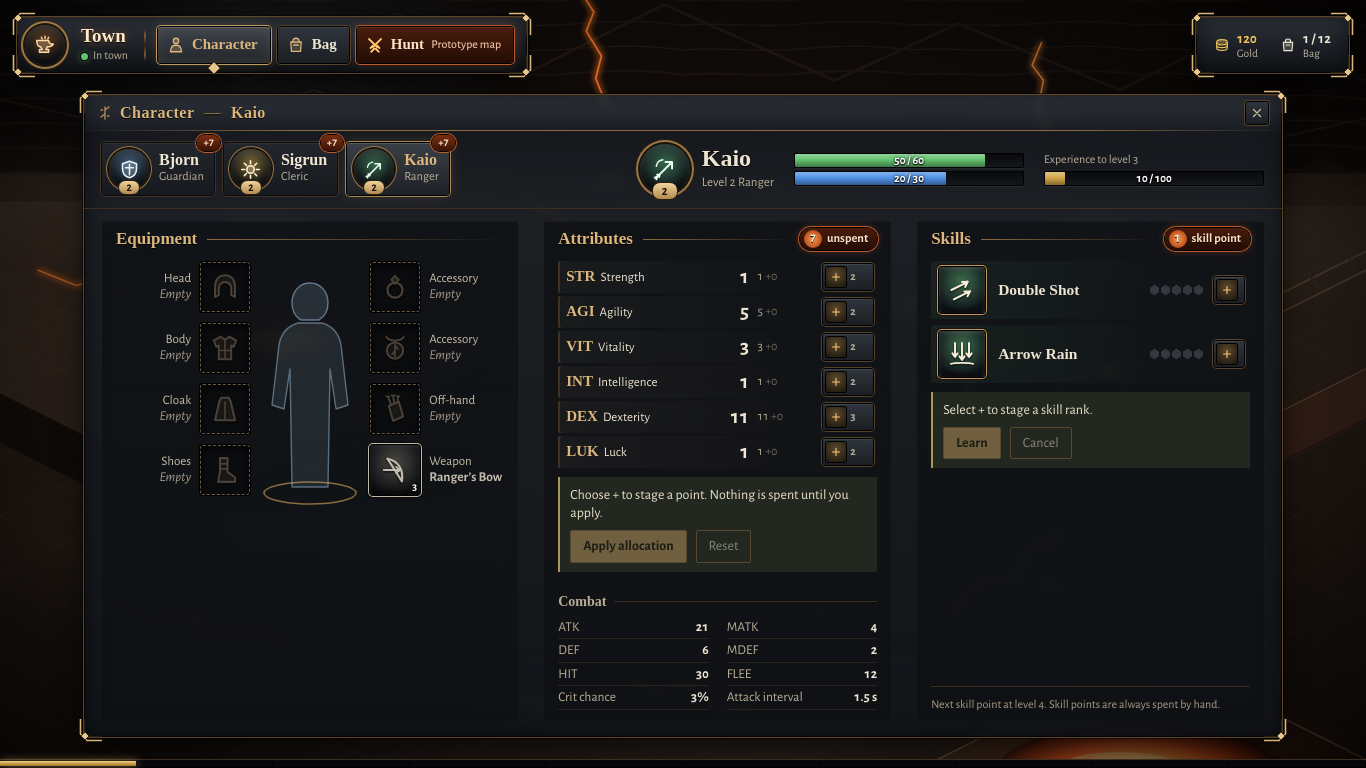
Test case: a stale cost (Minor 4) › a cost the server no longer agrees with re-reads the account once, and keeps the draft
Click the button "3". click: (848, 417)
box: left=823, top=404, right=873, bottom=430
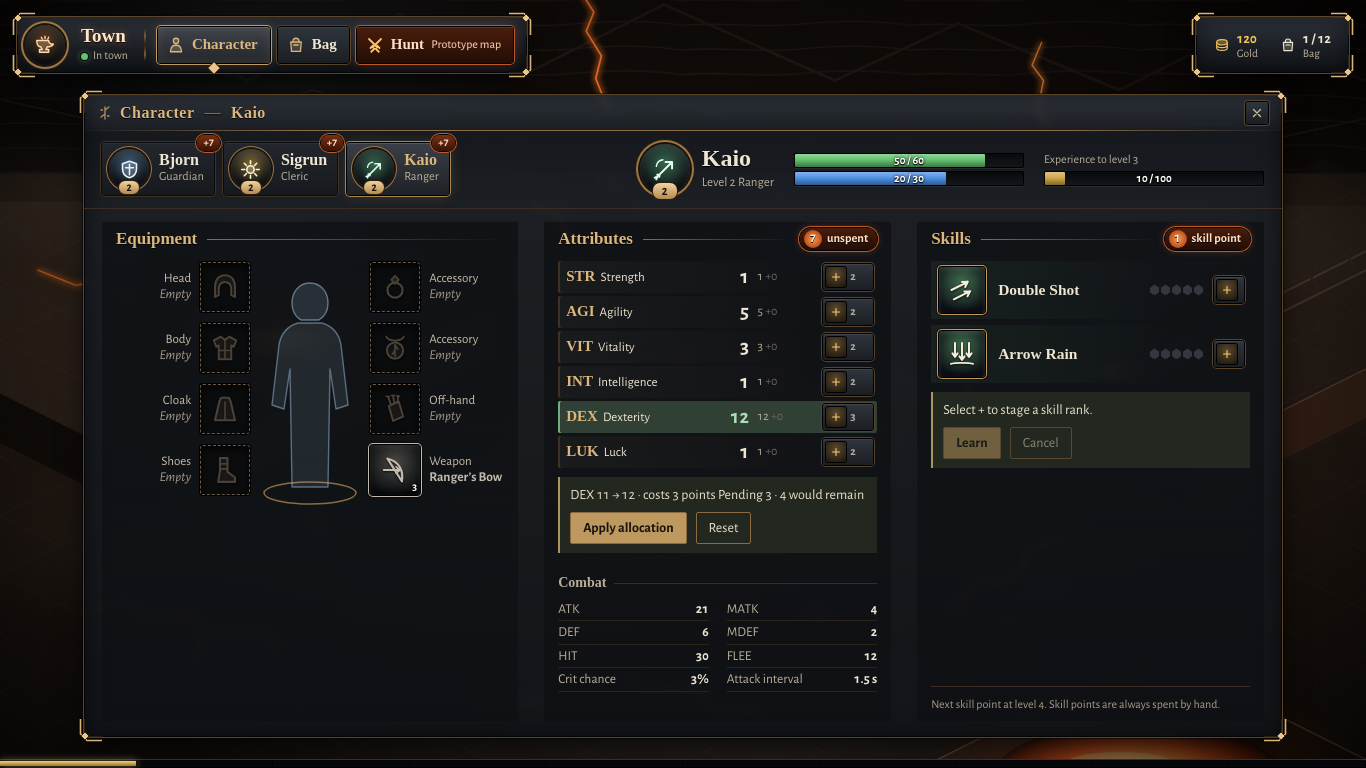
Click the button "Apply allocation". click: (628, 528)
box: left=570, top=512, right=687, bottom=544
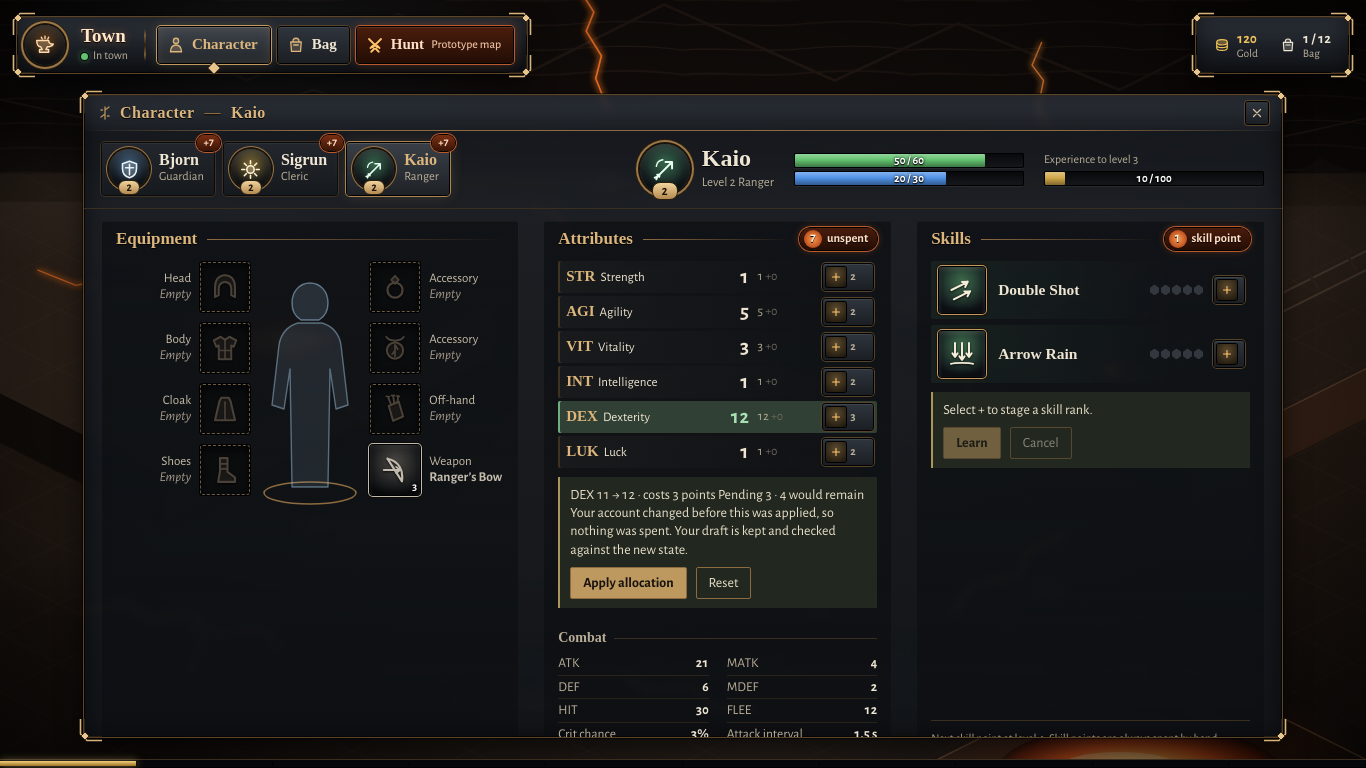
expect the element with class "allocation-preview" shows "Your account changed before this was applied, so nothing was spent. Your draft is kept and checked against the new state.": met, box left=570, top=506, right=836, bottom=557
